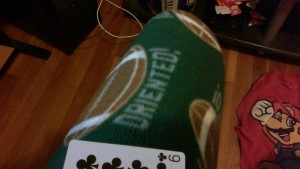NineOfClubs: (60, 136, 186, 169)
